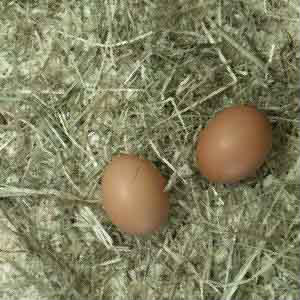egg: (196, 105, 273, 184), (100, 154, 171, 235)
